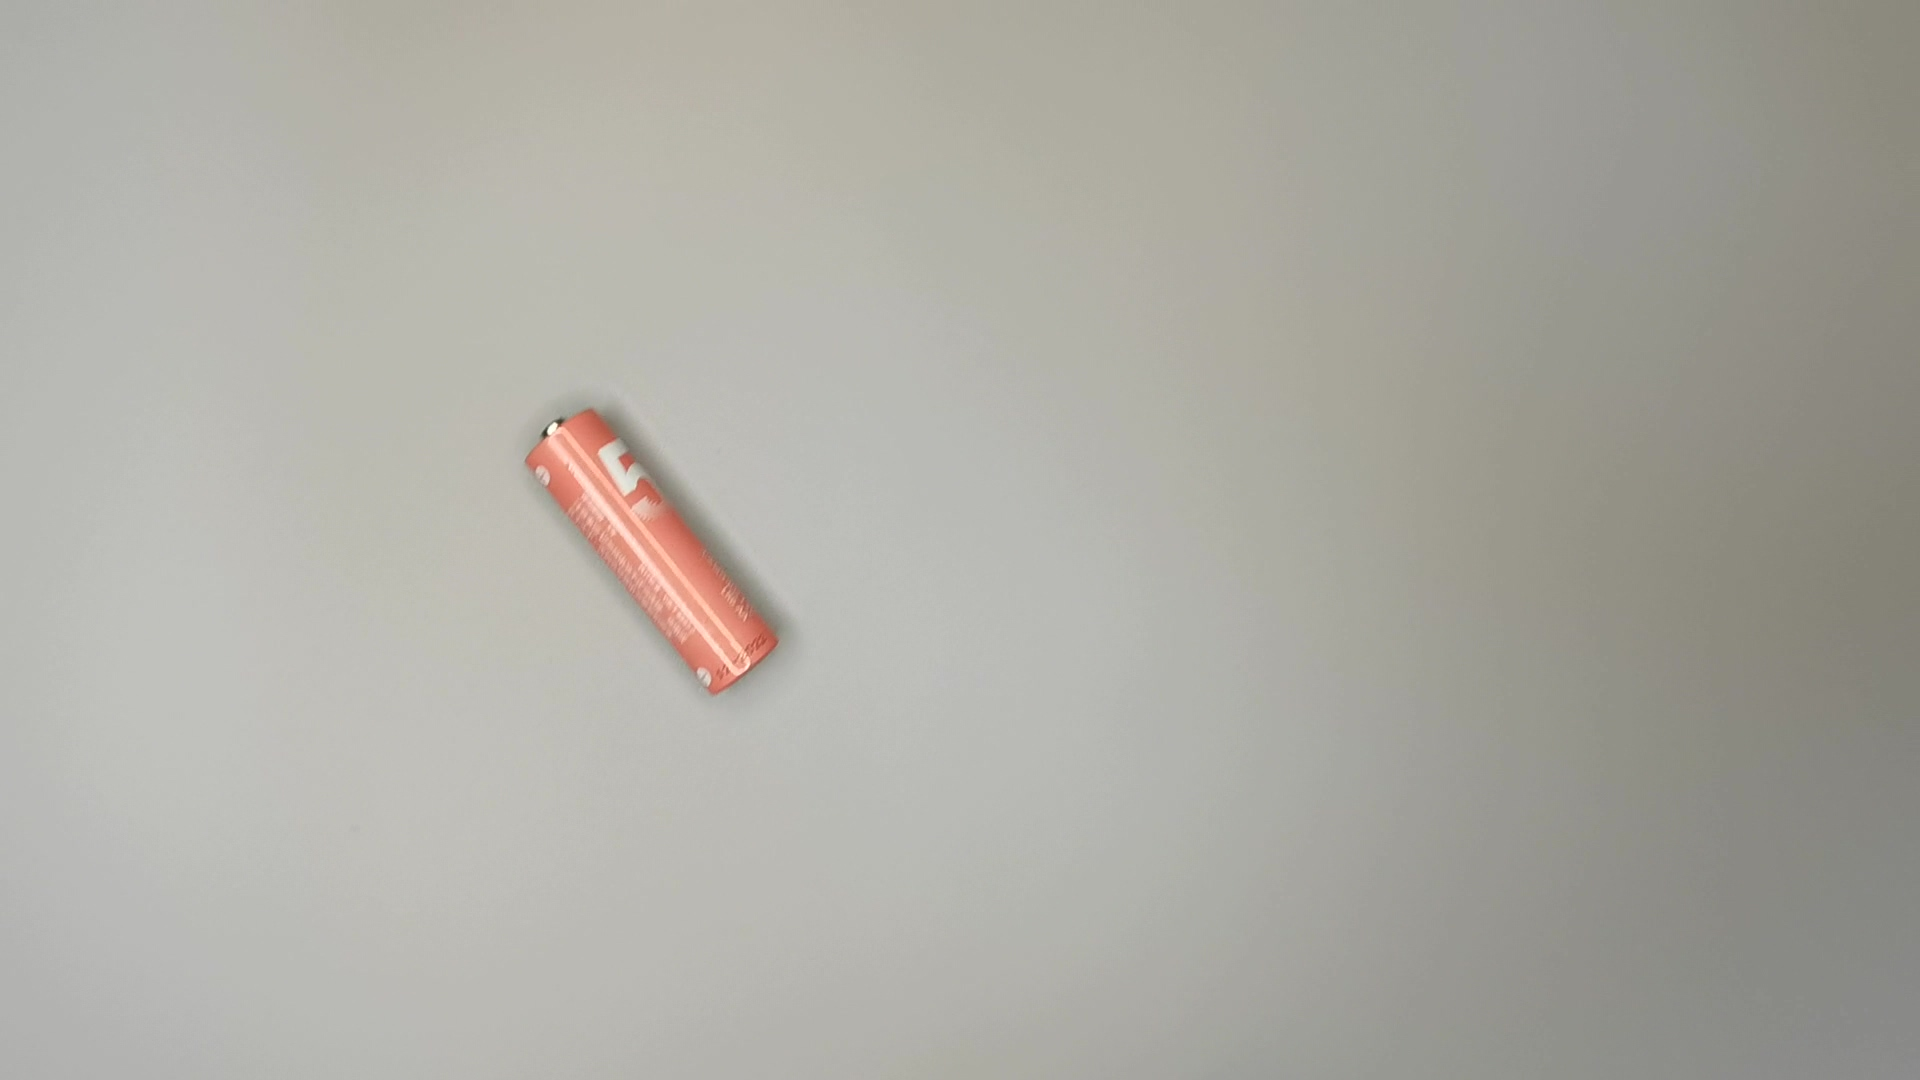battery: (524, 405, 786, 695)
